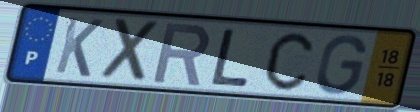C: (263, 30, 316, 93)
G: (314, 33, 369, 97)
K: (52, 14, 106, 80)
L: (208, 26, 253, 89)
R: (150, 20, 213, 88)
X: (99, 16, 164, 85)
